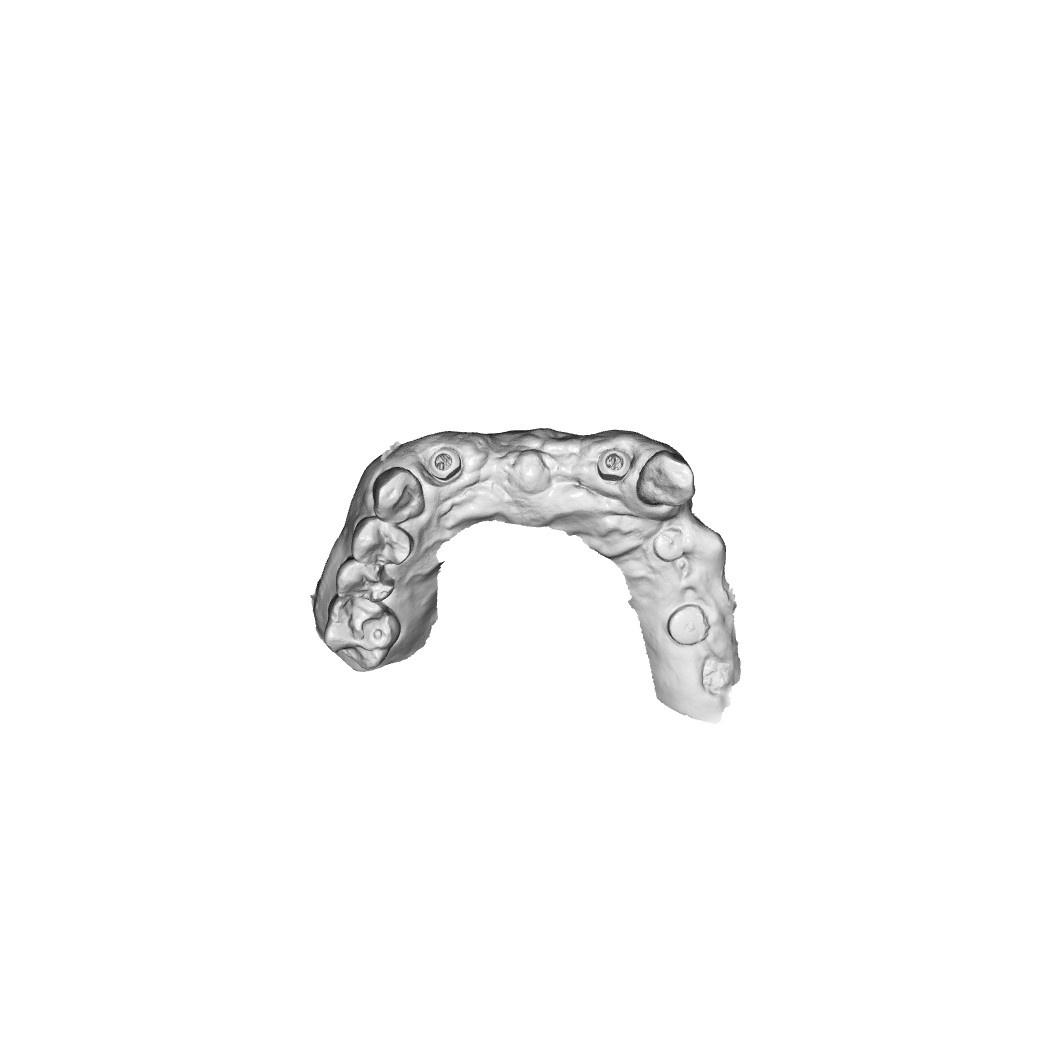canine: (635, 450, 694, 510), (370, 466, 425, 522)
implant: (427, 446, 464, 483), (598, 447, 628, 482)
premolar: (350, 517, 412, 568)
